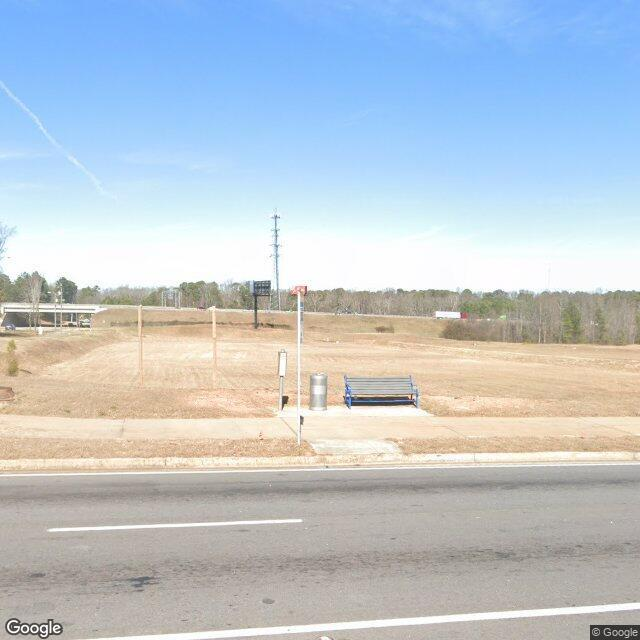seating: (342, 374, 420, 409)
trash_can: (309, 372, 329, 412)
